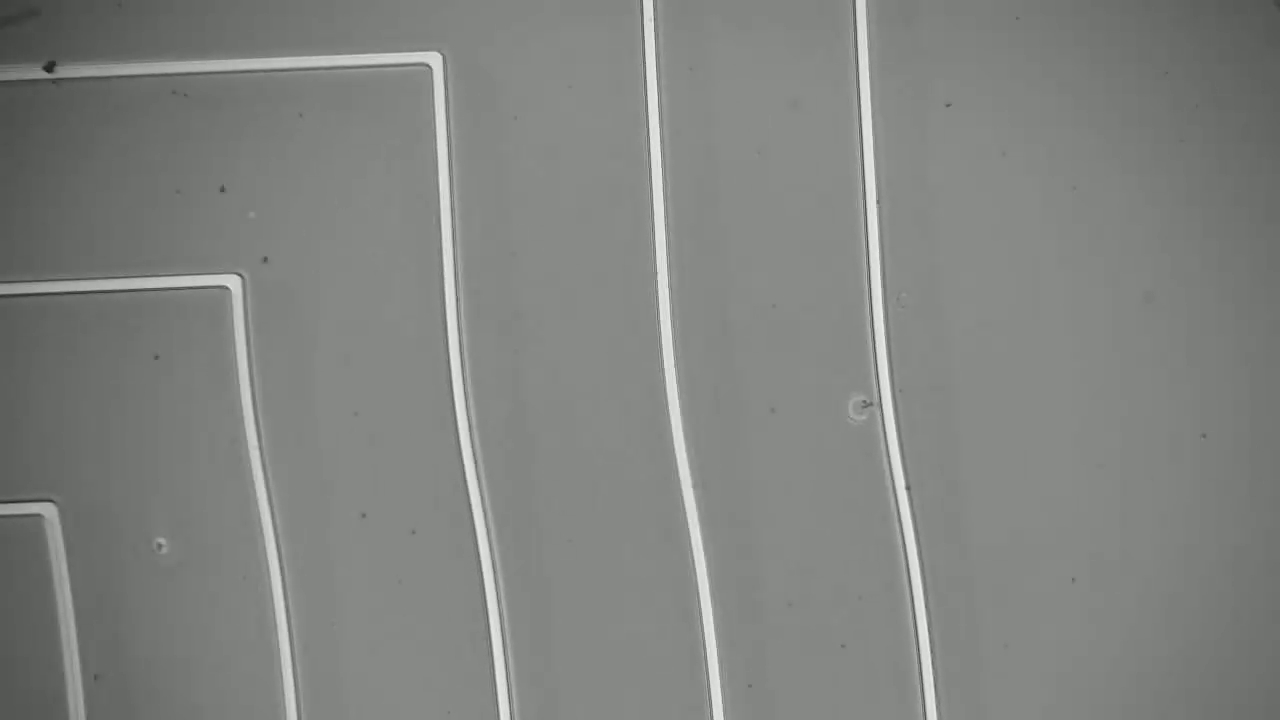stains_enbedded: (32, 50, 68, 92)
